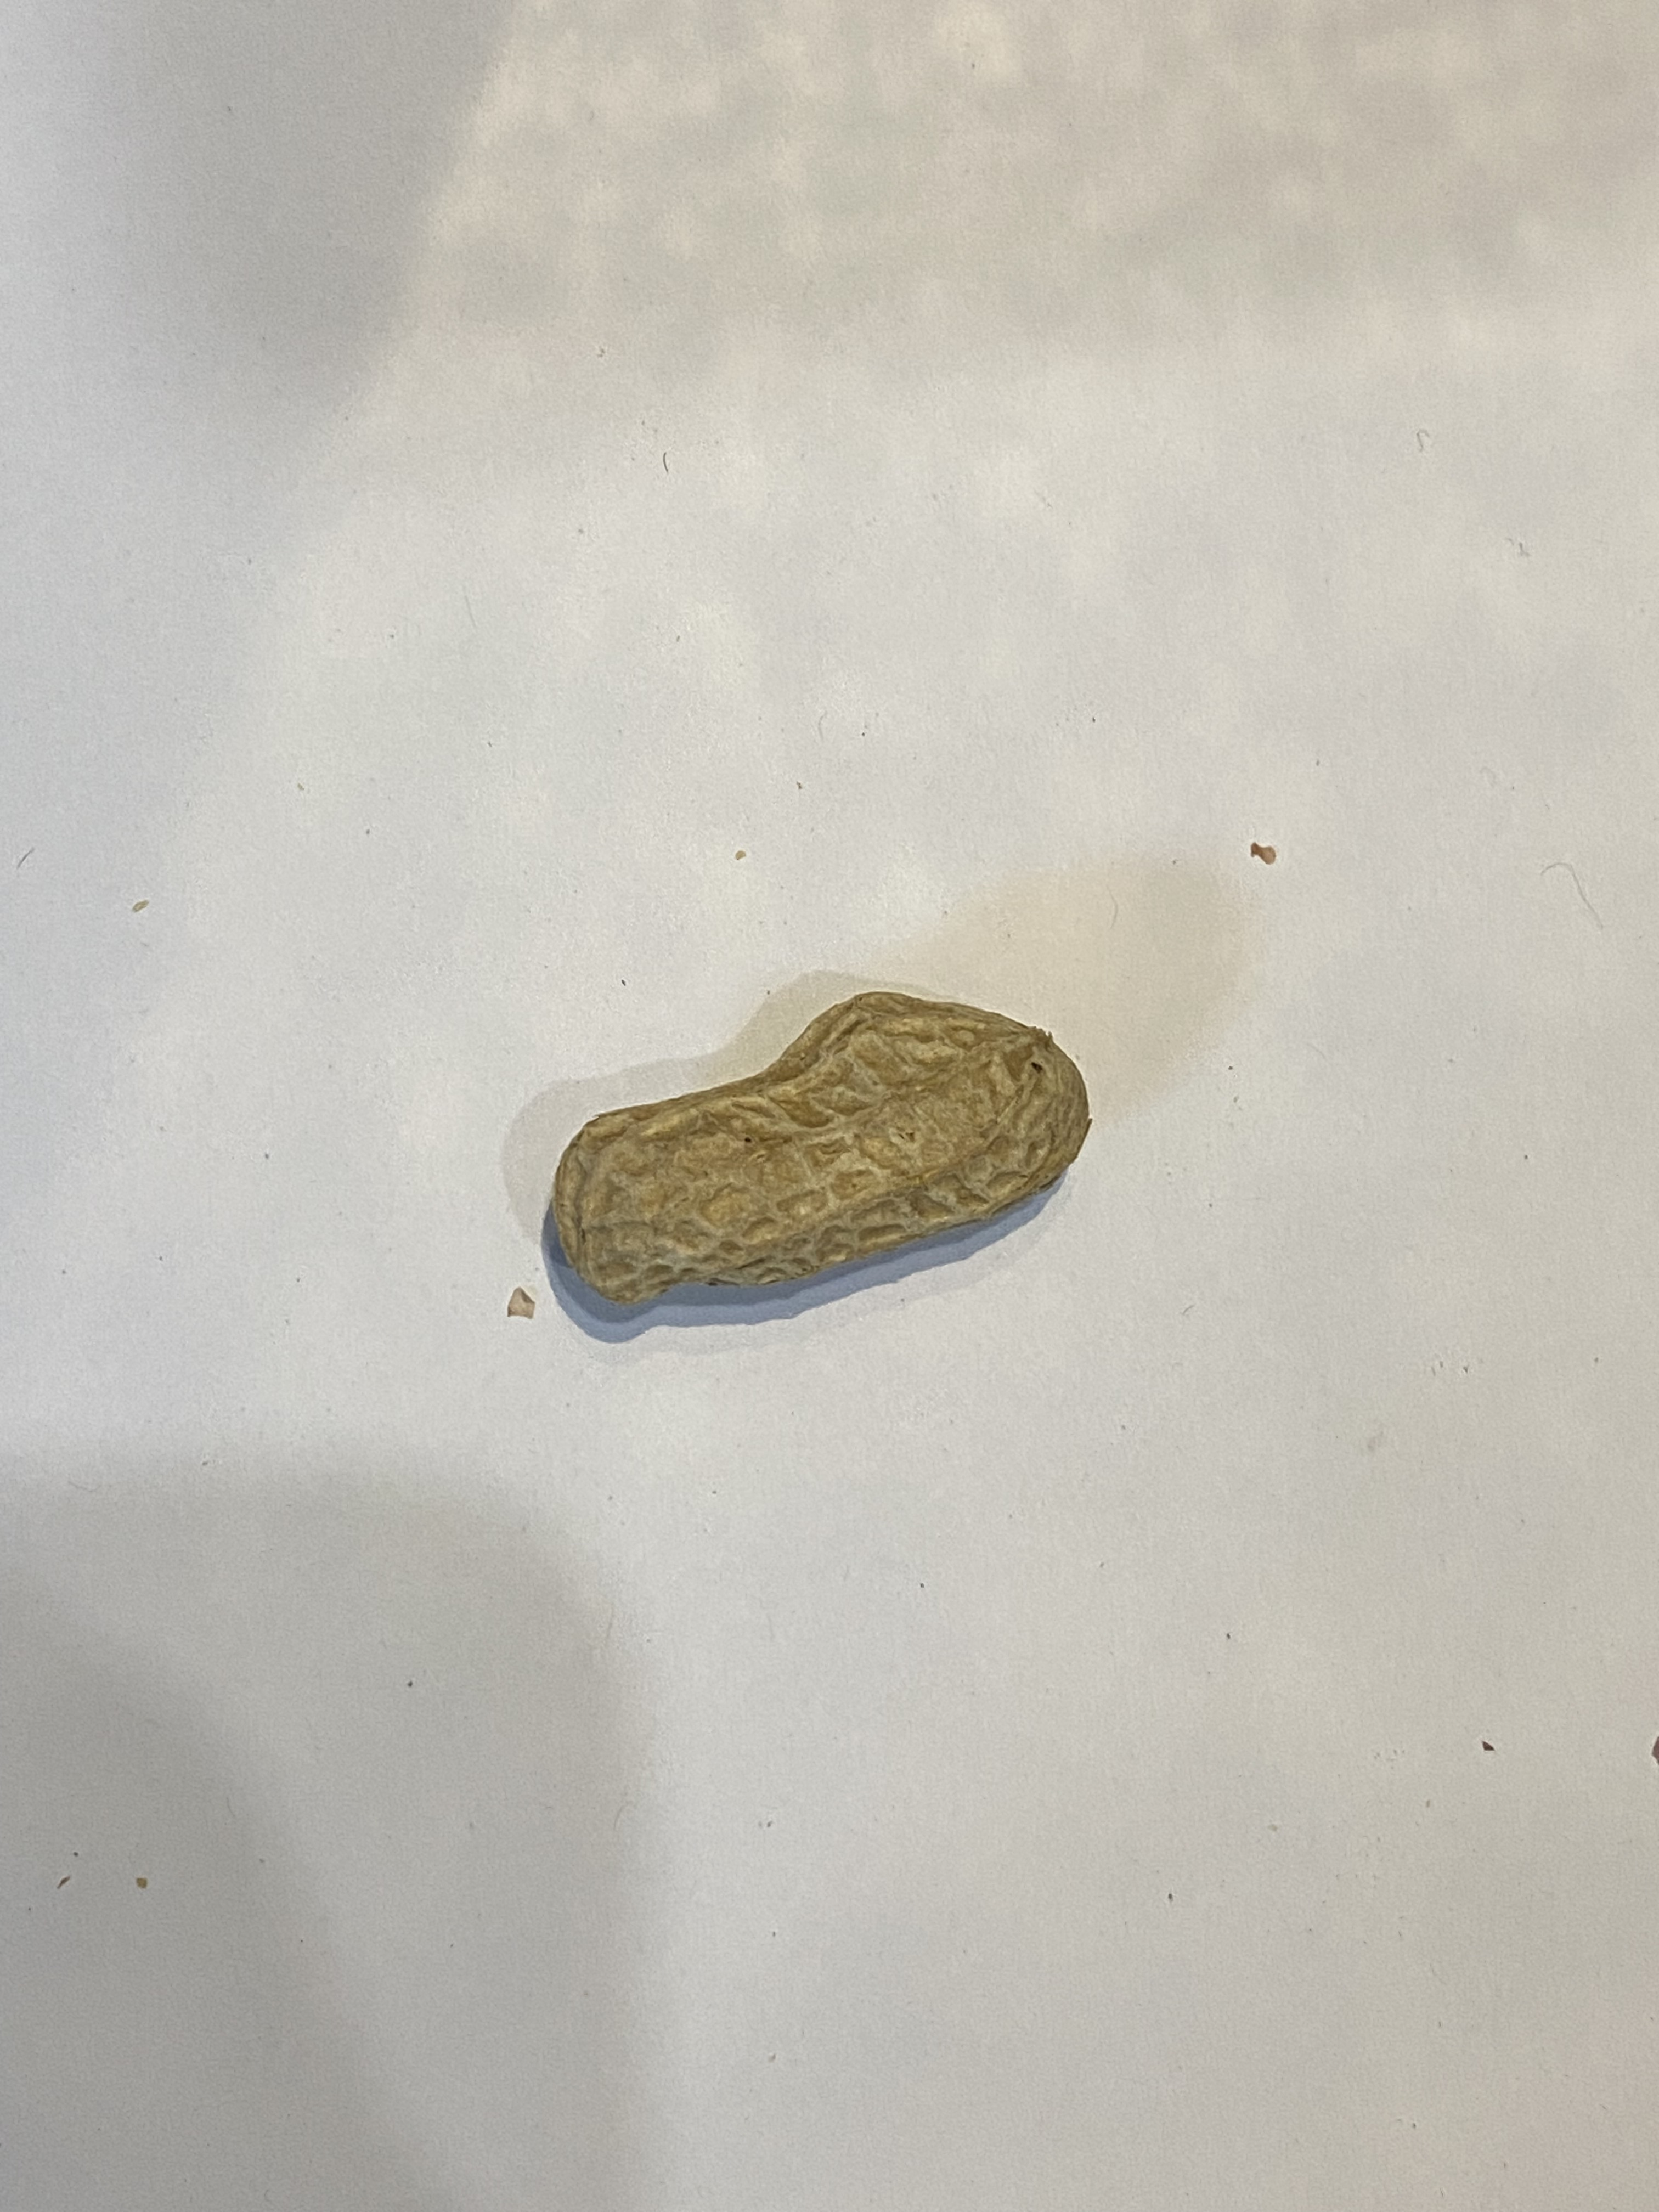kacang2: (544, 954, 1091, 1346)
